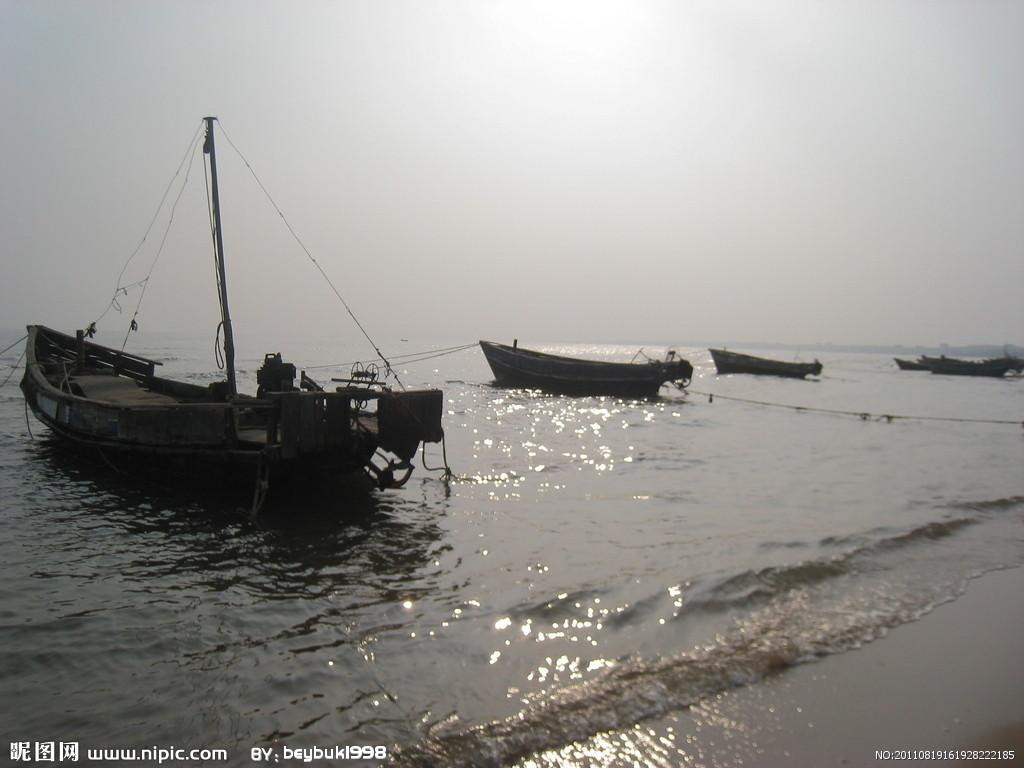otherboat: (16, 288, 457, 496), (475, 331, 699, 396), (706, 340, 833, 374)
